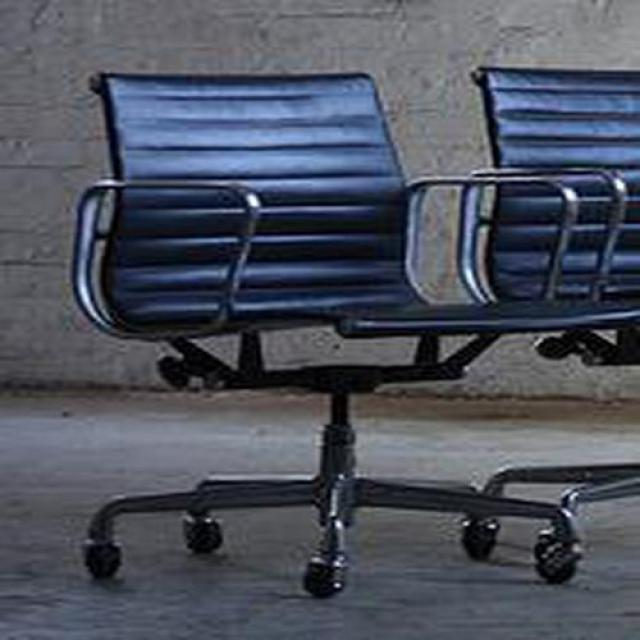swivelchair: (69, 67, 640, 599)
